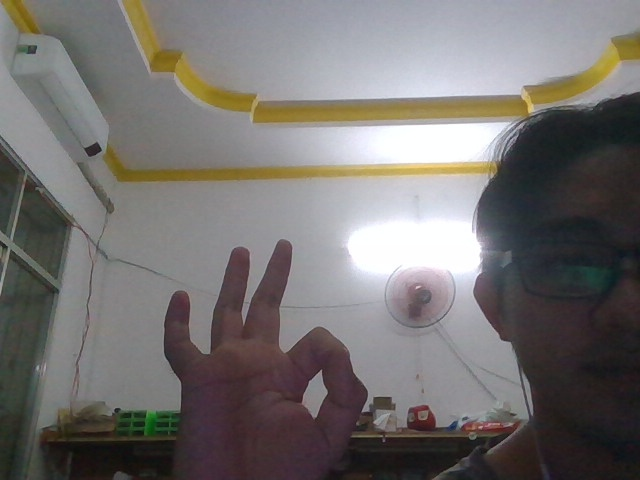okay: (102, 204, 402, 480)
